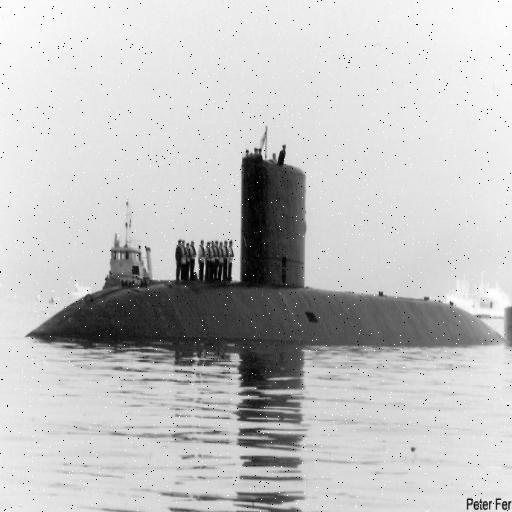submarine: (24, 150, 512, 346)
